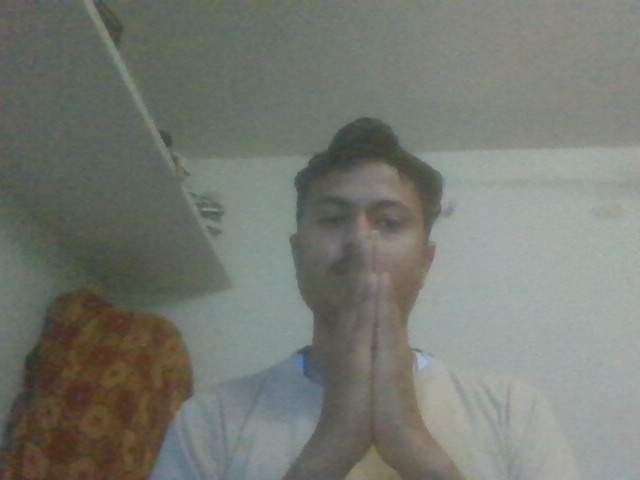Namaste: (301, 231, 435, 442)
